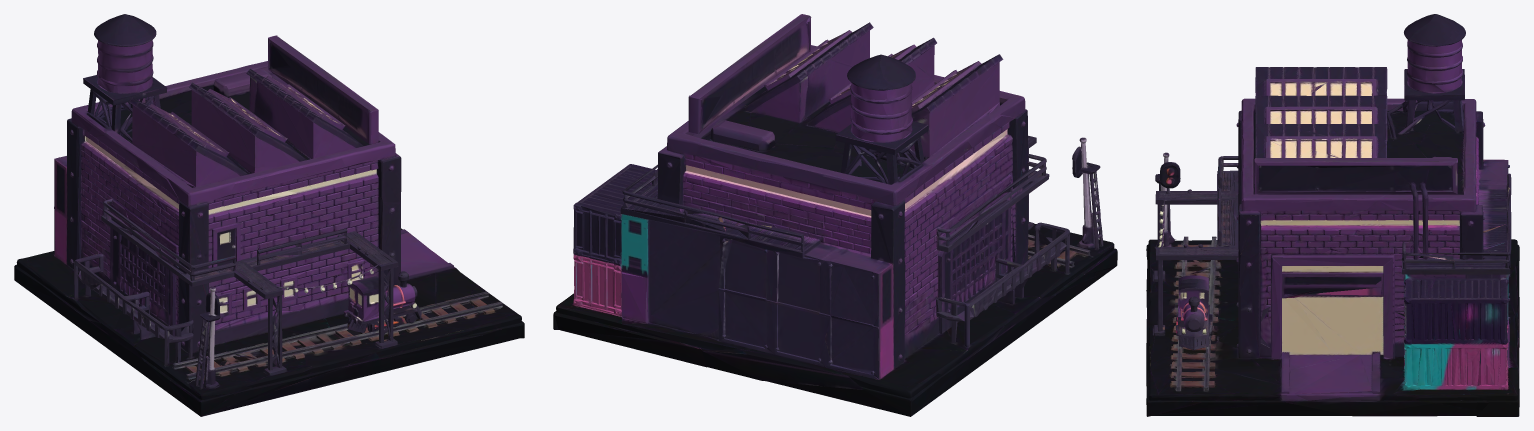
File: bld-syndicate.glb
3 renders of one model, left to right at view 1: azimuth 30°, elevation 25°; view 2: azimuth 150°, elevation 25°; view 3: azimuth 270°, elevation 25°, orthographic. The views are drawn at different scales.
Visible parts, largest first — view 1: output_unwrapped; view 2: output_unwrapped; view 3: output_unwrapped.
Boxes of the visible parts, bbox=[...] form: output_unwrapped: bbox=[14, 14, 524, 416]; output_unwrapped: bbox=[553, 14, 1117, 416]; output_unwrapped: bbox=[1146, 14, 1519, 416].
Bounding box in the file's own units: 1.9 × 1.57 × 1.9.
1 material, 1 textured.
